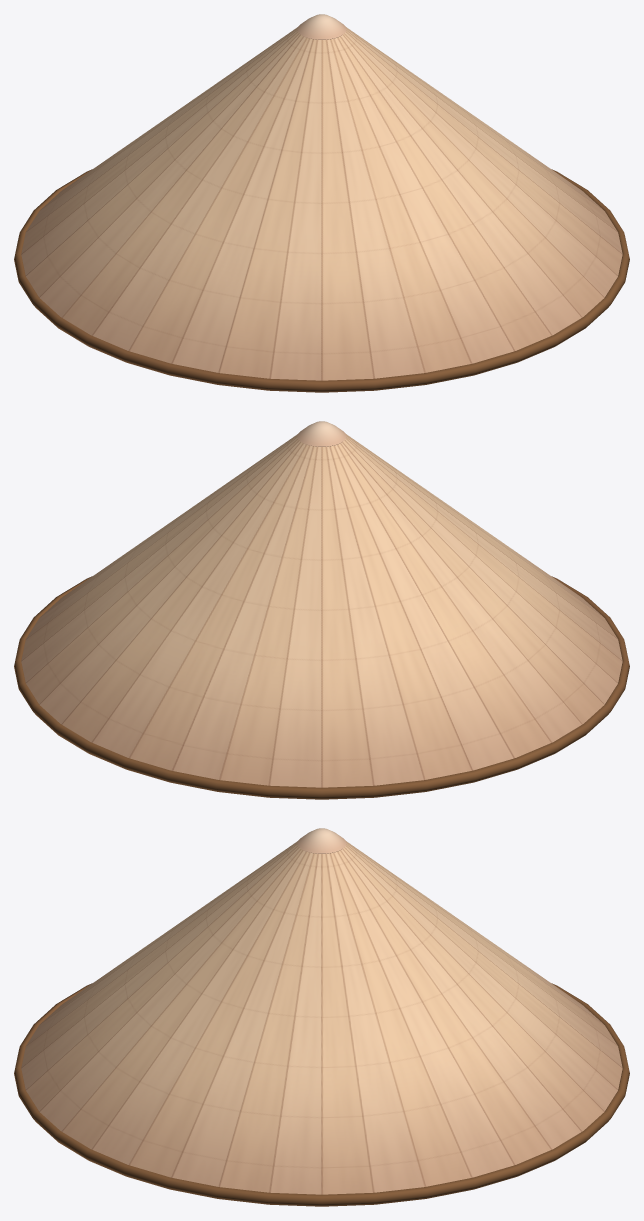
File: ConicalHat.FBX
3 renders of one model, top to bottom at view 1: azimuth 30°, elevation 25°; view 2: azimuth 150°, elevation 25°; view 3: azimuth 270°, elevation 25°, orthographic.
Parts seen in each view (by area): view 1: ConicalHat; view 2: ConicalHat; view 3: ConicalHat.
Part boxes in pixels (x1,y1,x2,y2): ConicalHat: [14, 14, 629, 392]; ConicalHat: [14, 421, 629, 799]; ConicalHat: [14, 828, 629, 1206].
Bounding box in the file's own units: 69.38 × 30.86 × 69.38.
Materials: 1 (1 with a texture image).
